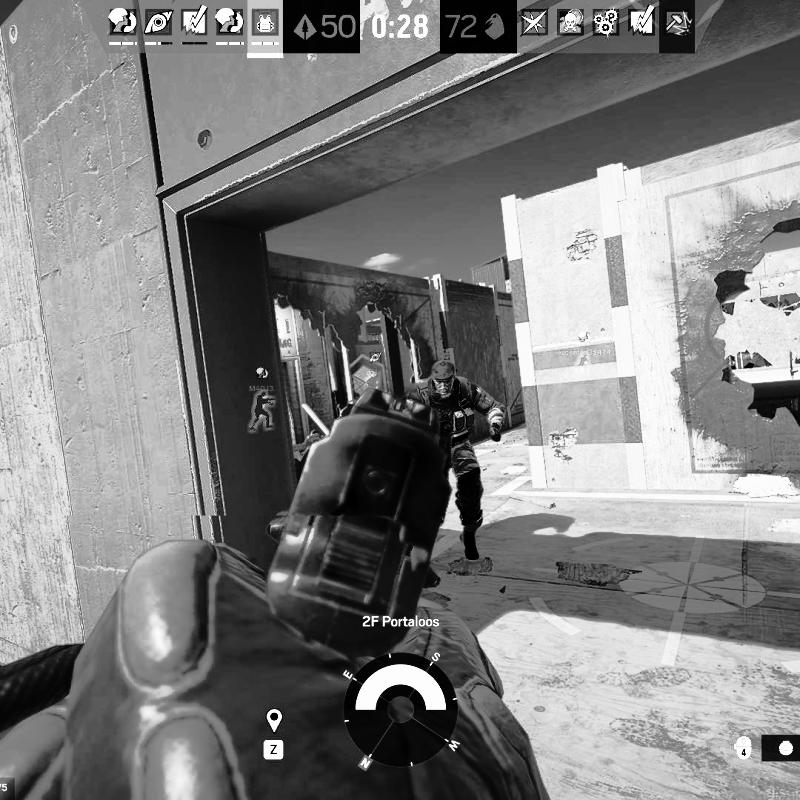Character: (394, 357, 511, 571)
Friend_label: (556, 331, 612, 358), (248, 366, 276, 393), (363, 351, 389, 377)
Head: (428, 358, 460, 396)
